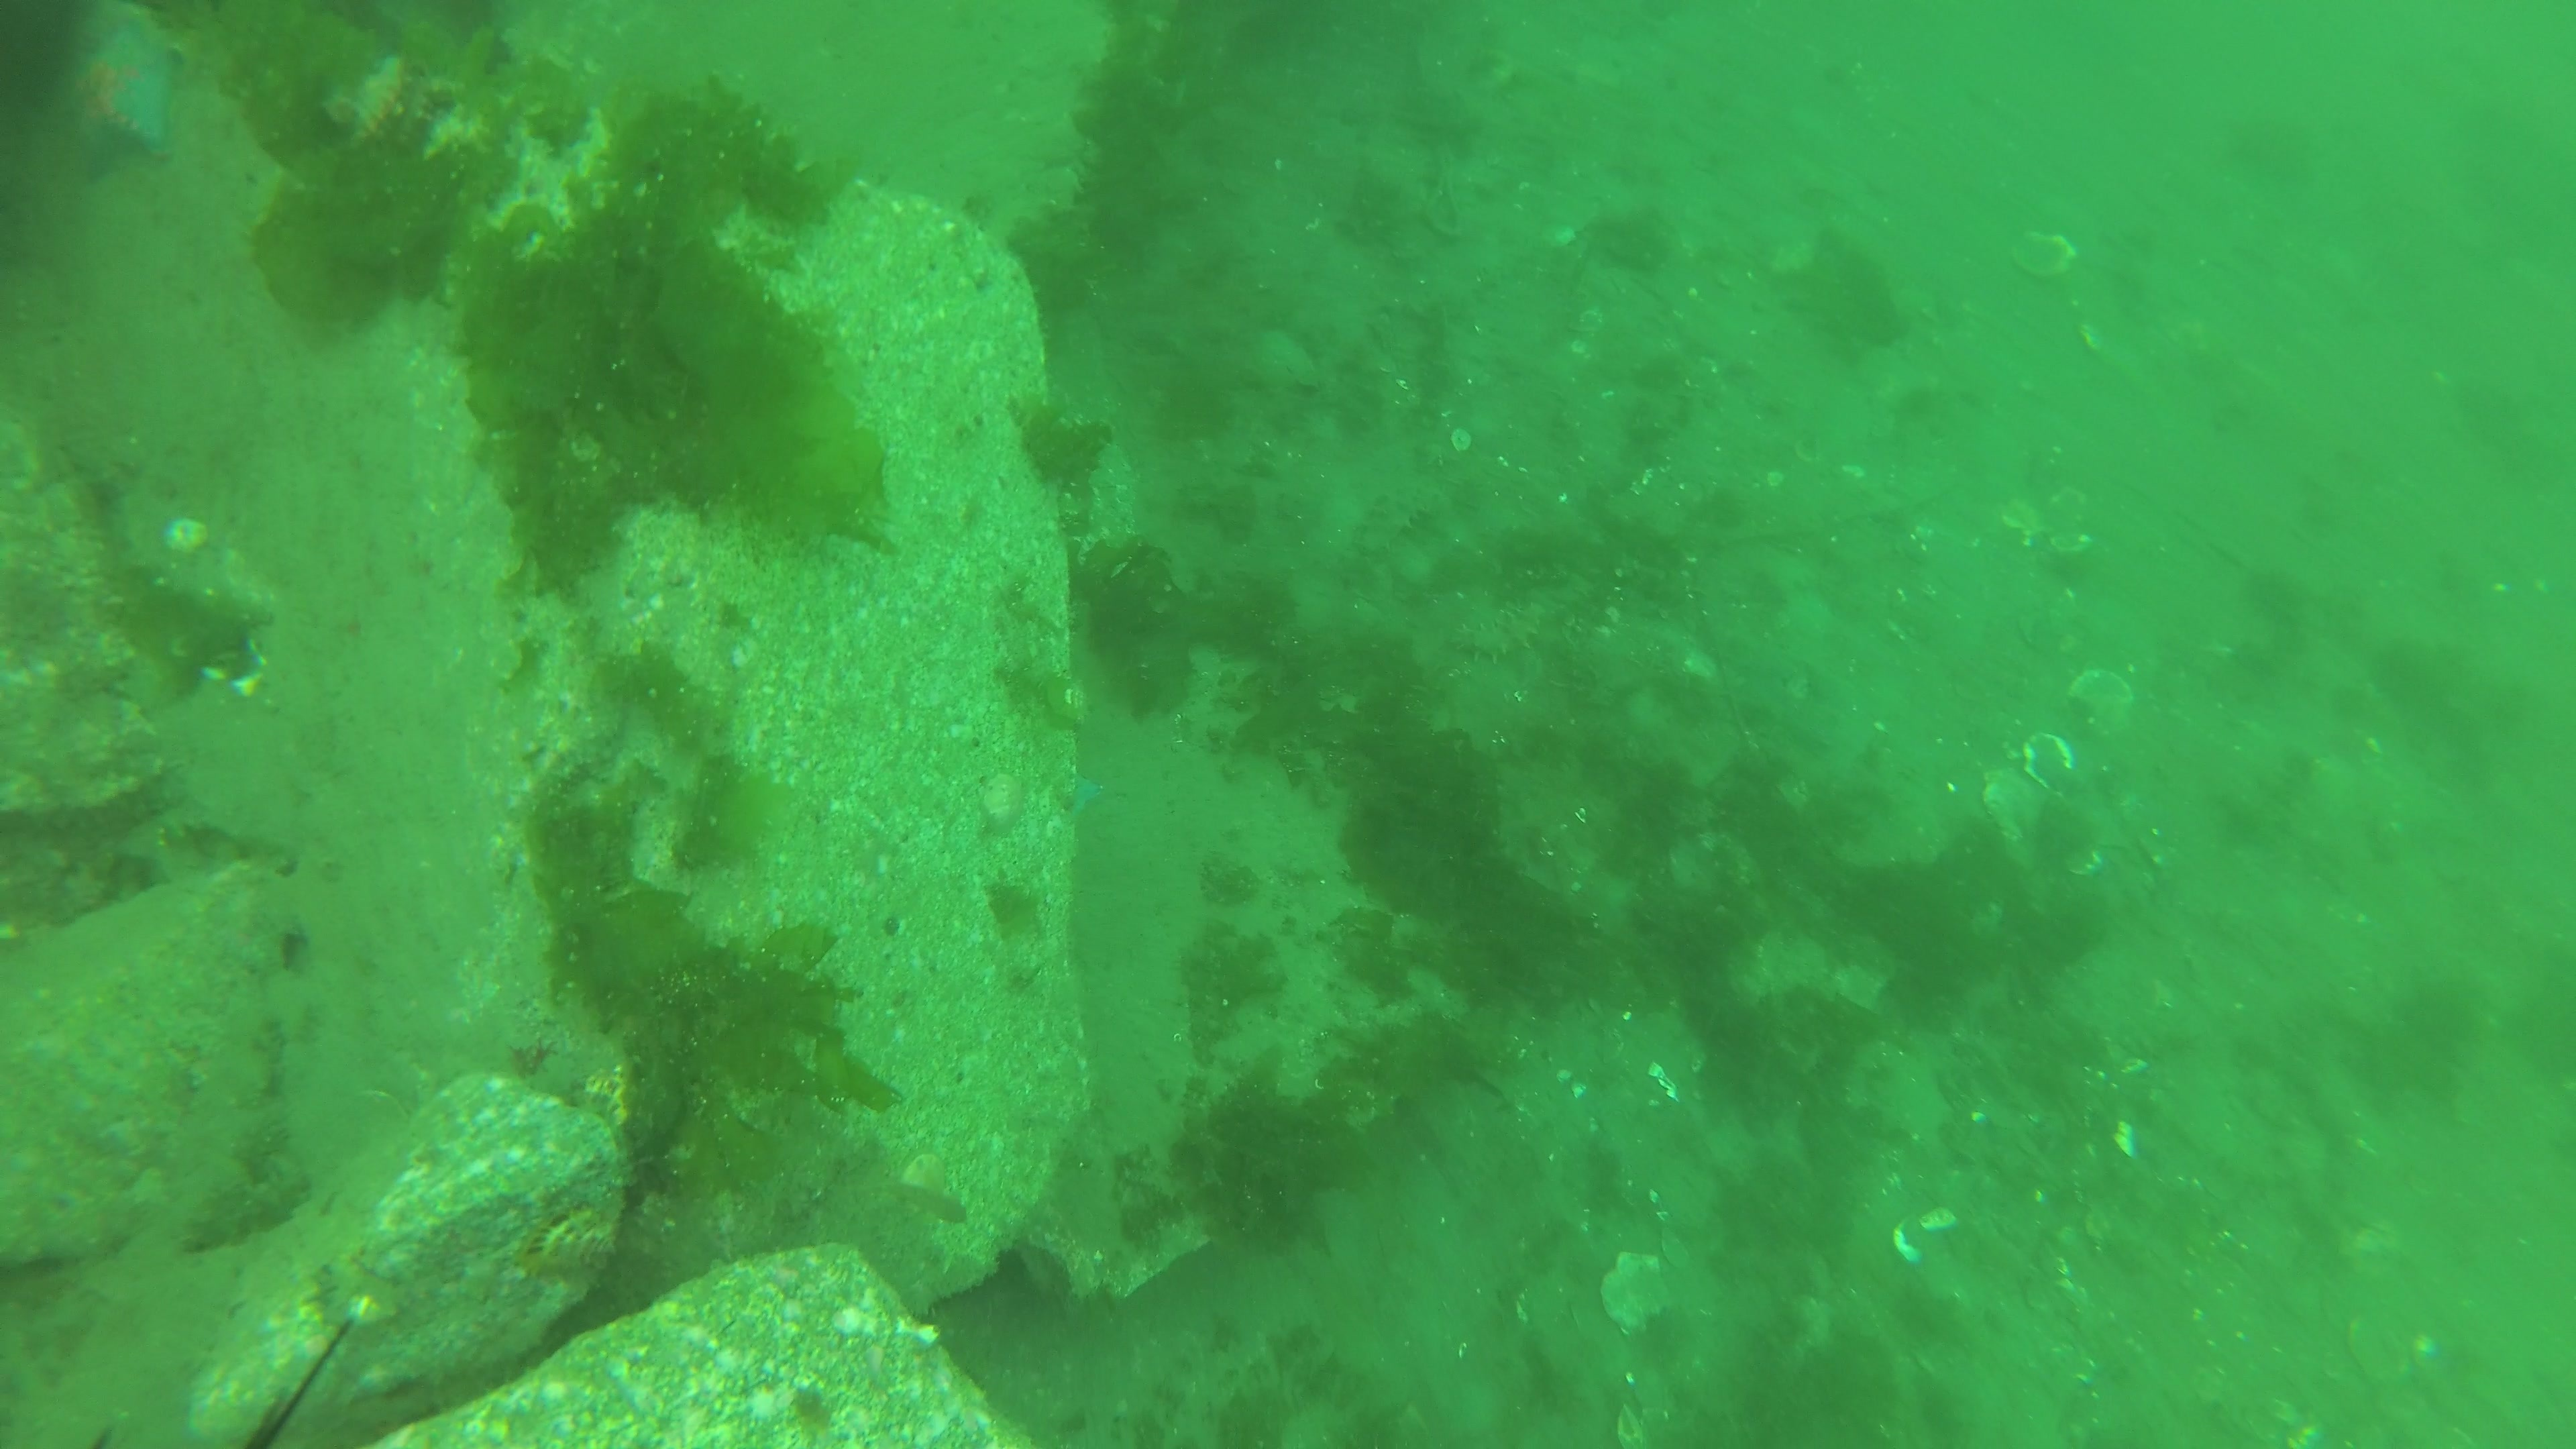holothurian: (1444, 598, 1557, 669), (1345, 481, 1449, 556)
starfish: (37, 4, 193, 168)
